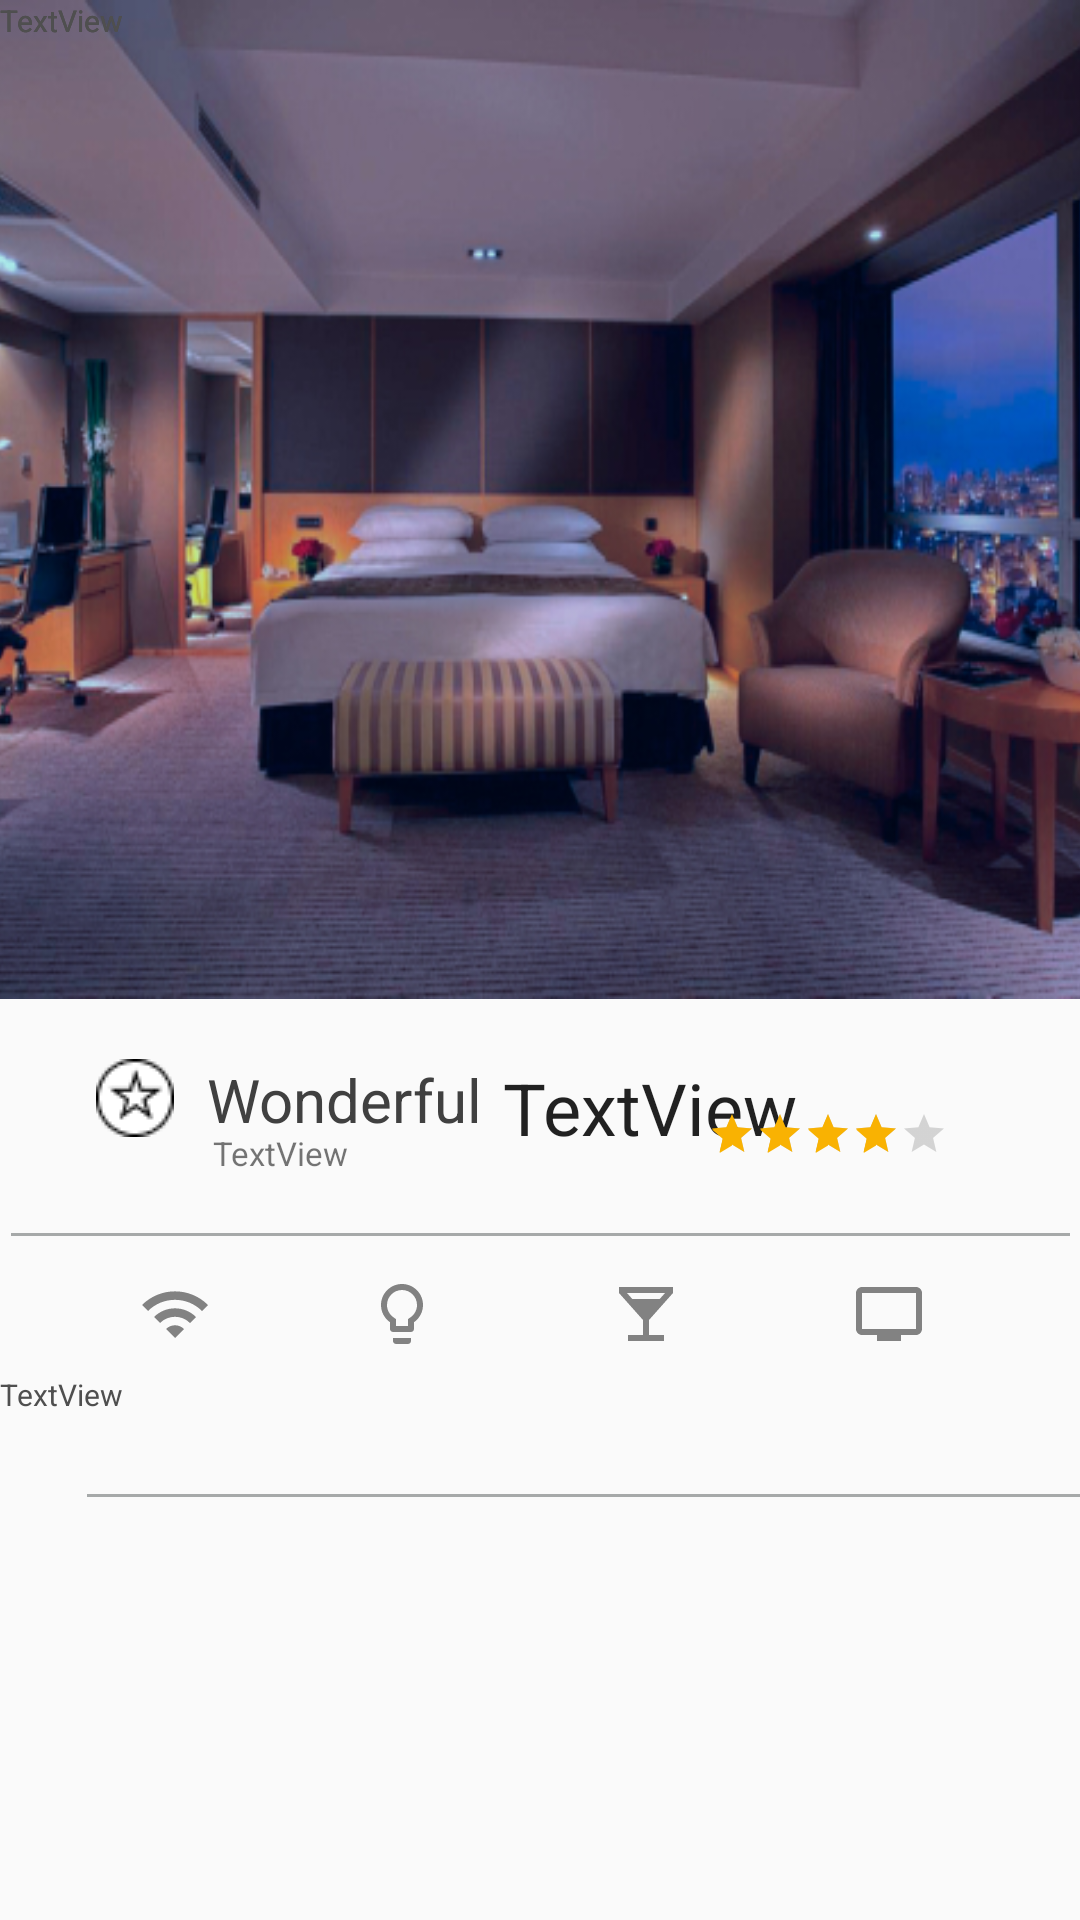

Named icons in this screenshot (1080x1920) and their centers, point (x, y):
lightbulb: point (402, 1314)
local bar: point (646, 1314)
single hotel rating: point (135, 1098)
wifi: point (175, 1314)
